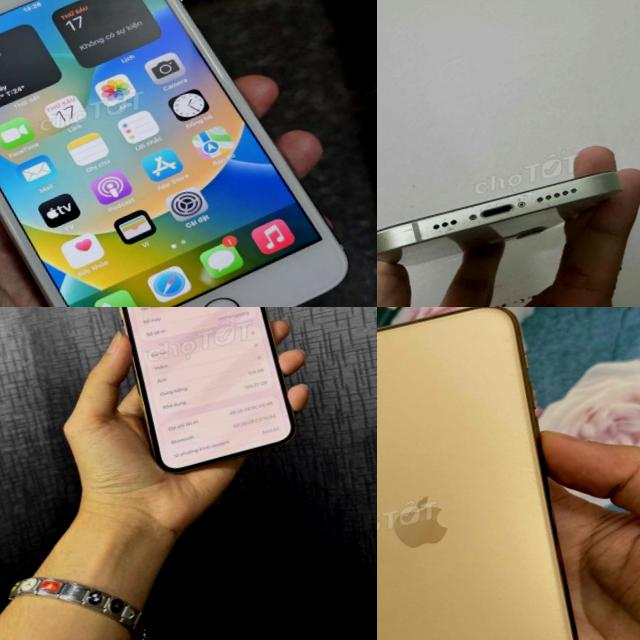gen_11: (377, 307, 575, 640)
gen_12_13: (91, 307, 300, 479), (377, 152, 640, 280)
gen_7_8: (0, 0, 371, 307)
